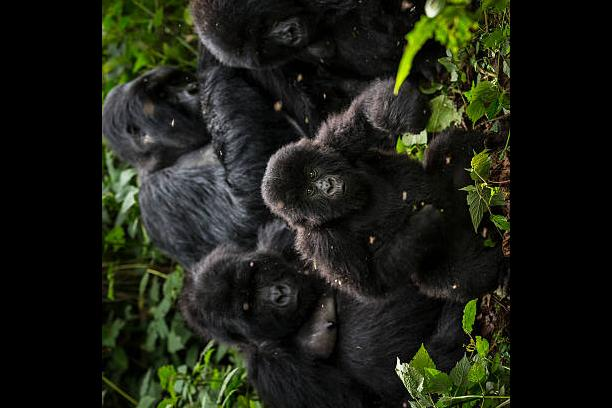goriile_montagne: (178, 227, 498, 408), (269, 60, 492, 302), (102, 35, 277, 276), (189, 0, 441, 84)
